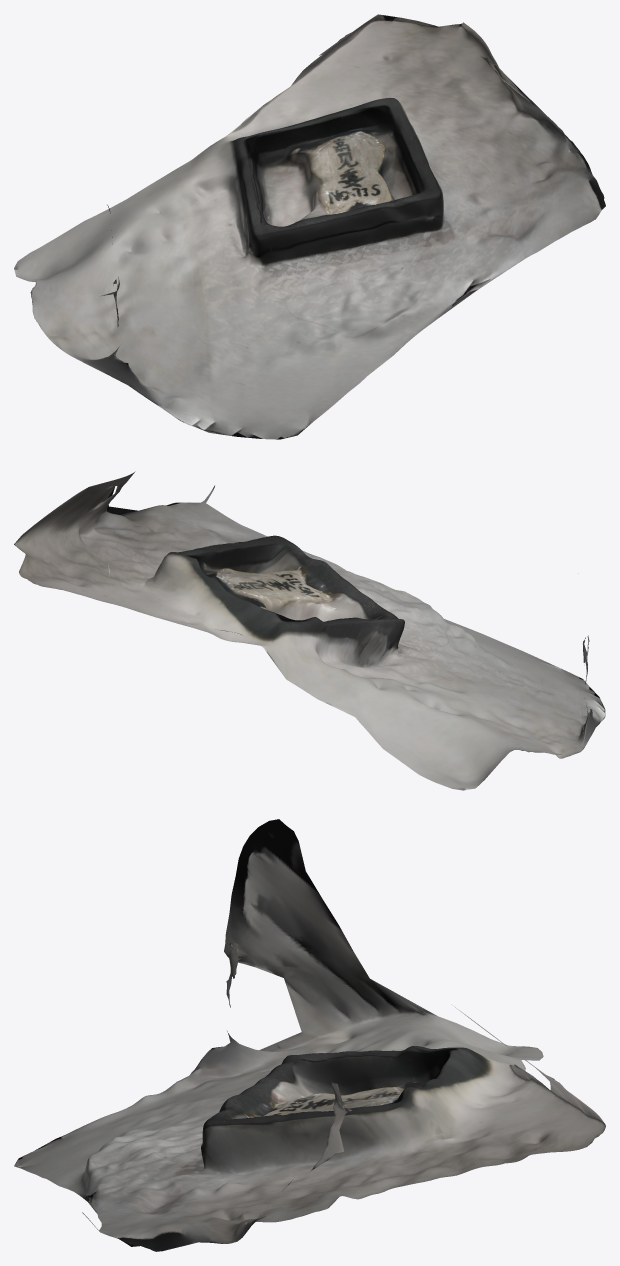
The picture shows the model from 3 angles, top to bottom: view 1: azimuth 30°, elevation 25°; view 2: azimuth 150°, elevation 25°; view 3: azimuth 270°, elevation 25°; orthographic projection. The views are drawn at different scales.
Bounding box in the file's own units: 0.9151 × 0.3782 × 0.7084.
Materials: 1 (1 with a texture image).
